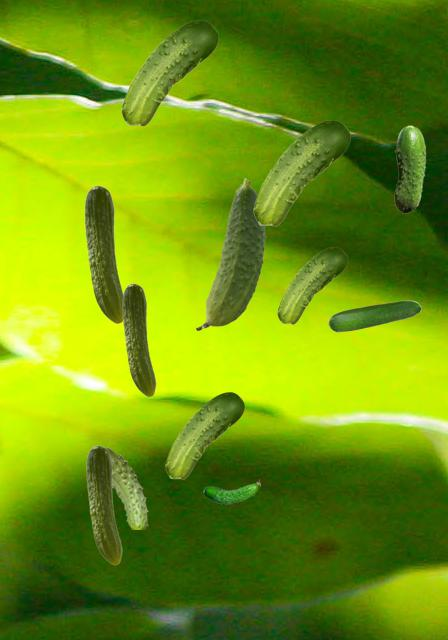cucumber: (196, 178, 265, 329), (121, 20, 217, 125), (253, 120, 349, 225), (165, 392, 243, 478), (84, 185, 122, 323), (277, 247, 346, 323), (86, 445, 121, 564), (122, 283, 155, 396), (106, 447, 147, 528), (328, 300, 420, 331), (394, 125, 425, 212), (203, 479, 259, 503)
